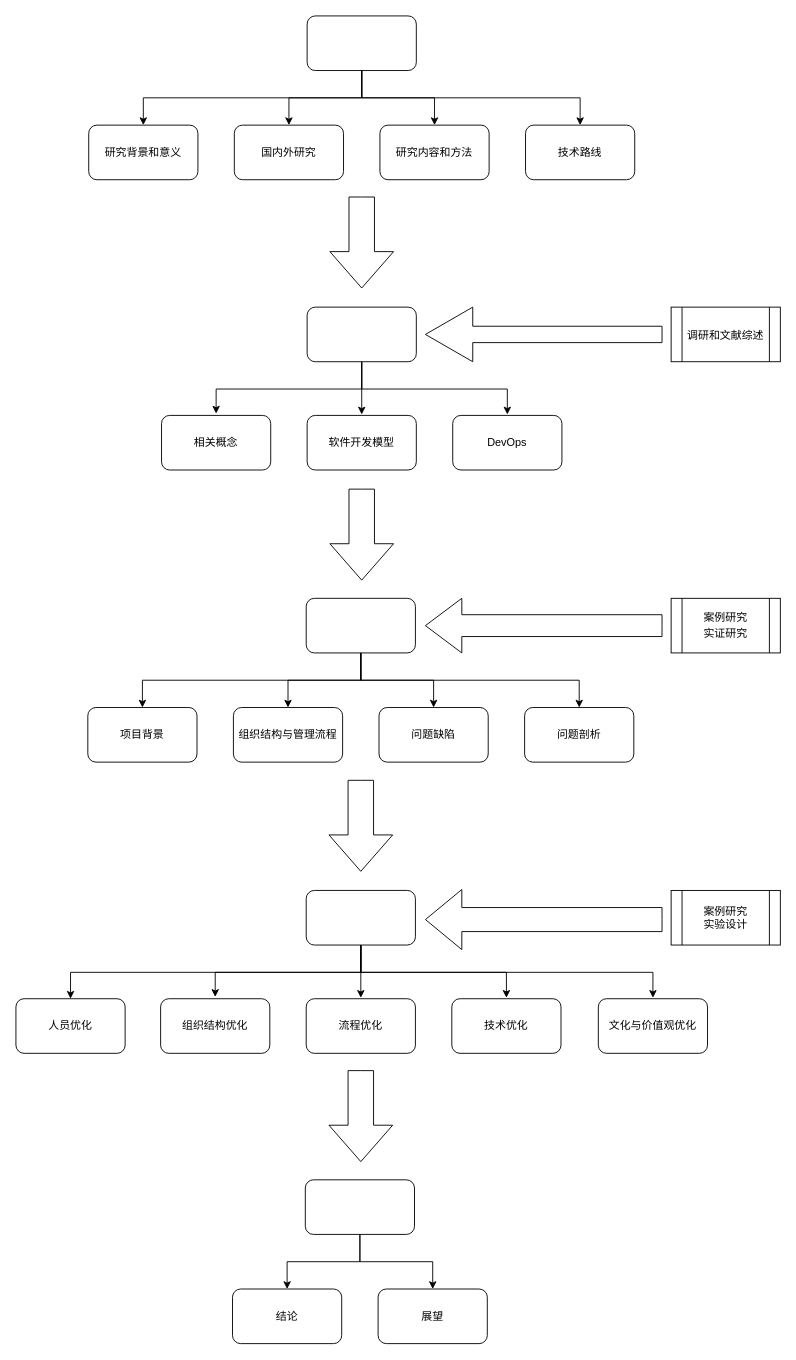
The diagram is 796 pixels wide and 1360 high, and some of its shapes have lost their labels. The shapes that lost their labels are listed below. From the top down, each one's centre as x and y in pixels, then its label:
At point (361, 43): "绪论".
At point (361, 334): "理论基础".
At point (360, 625): "H 公司软件项目质量现状".
At point (360, 917): "采用DevOps H 公司软件项目质量优化方案".
At point (359, 1206): "结论与展望".
